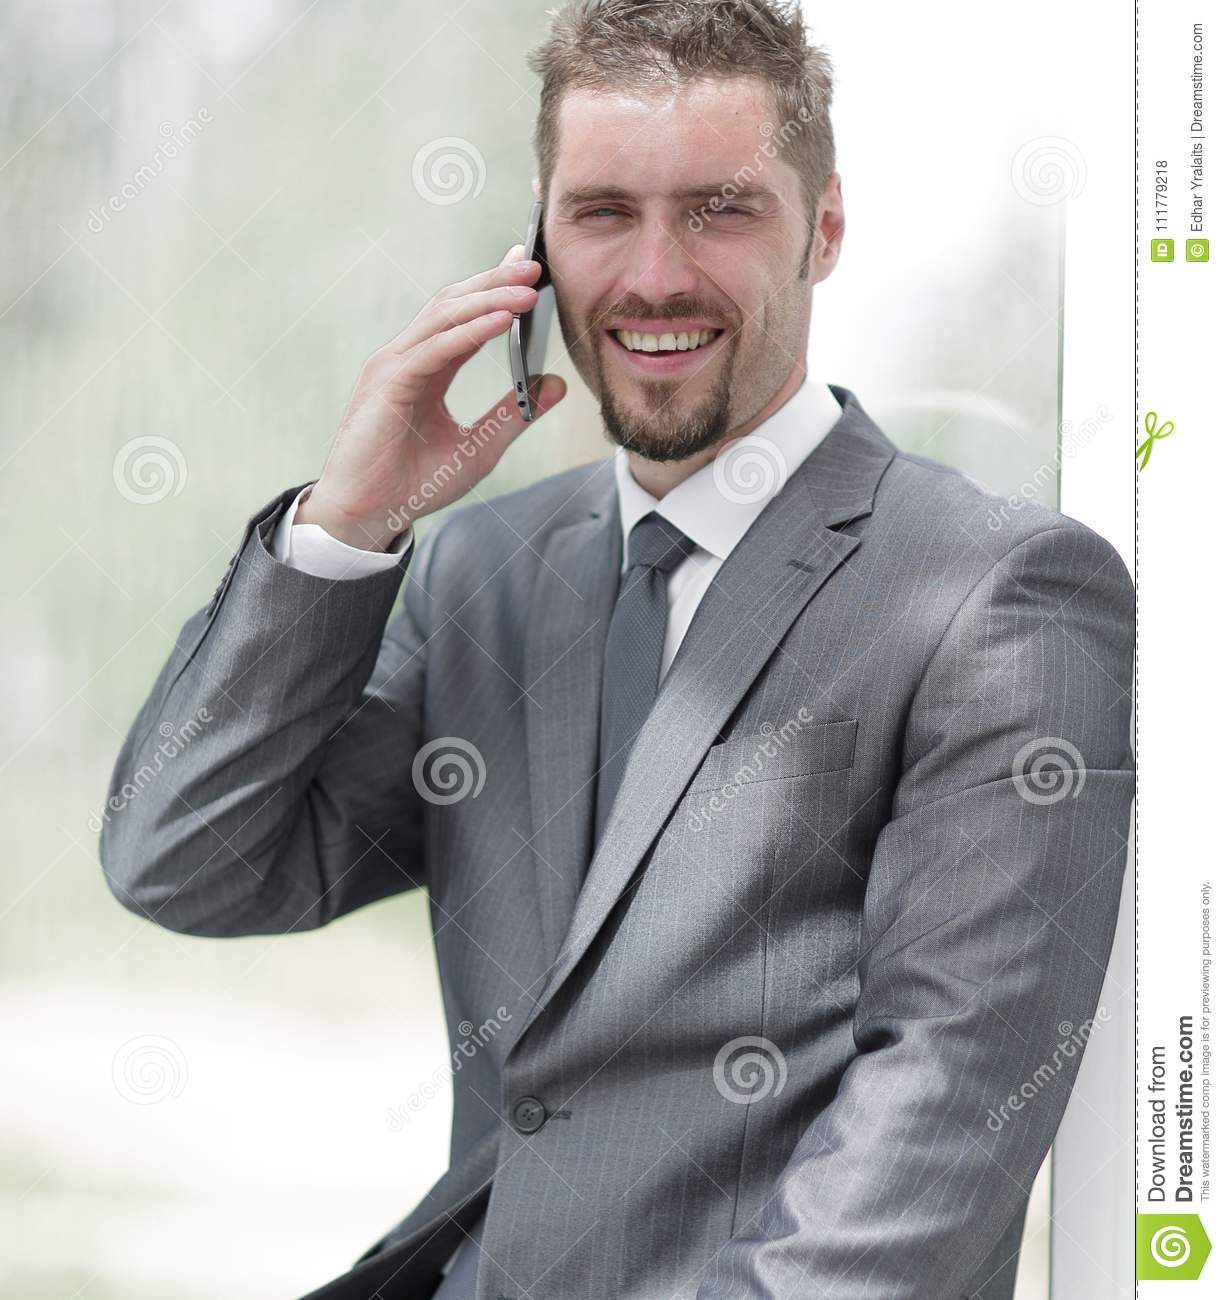phone: (499, 193, 557, 433)
talk: (335, 169, 773, 510)
